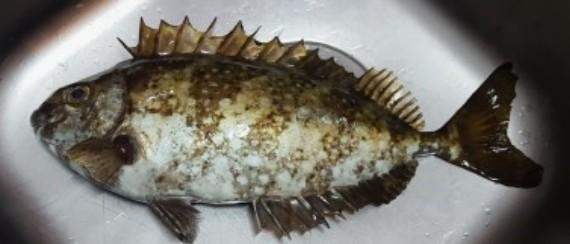fish: (31, 18, 542, 242)
